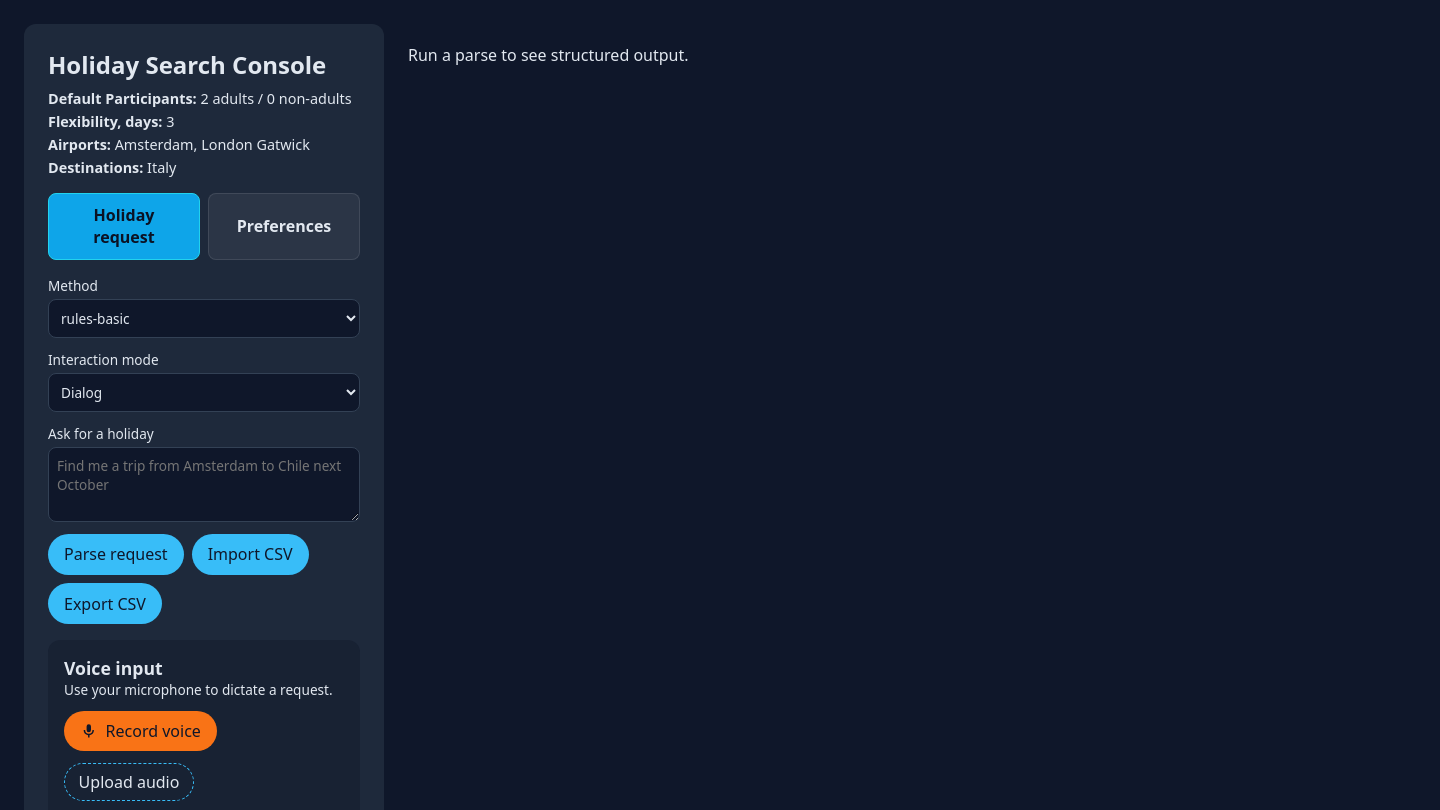
Holiday search console › shows empty-state messaging when no preferences are detected
Expected: the element with test id "fixtures-loaded" is shown, 48,89 -> 360,177
Click the button with test id "mode-toggle-preferences" at (284, 226), box 208,193 -> 360,260
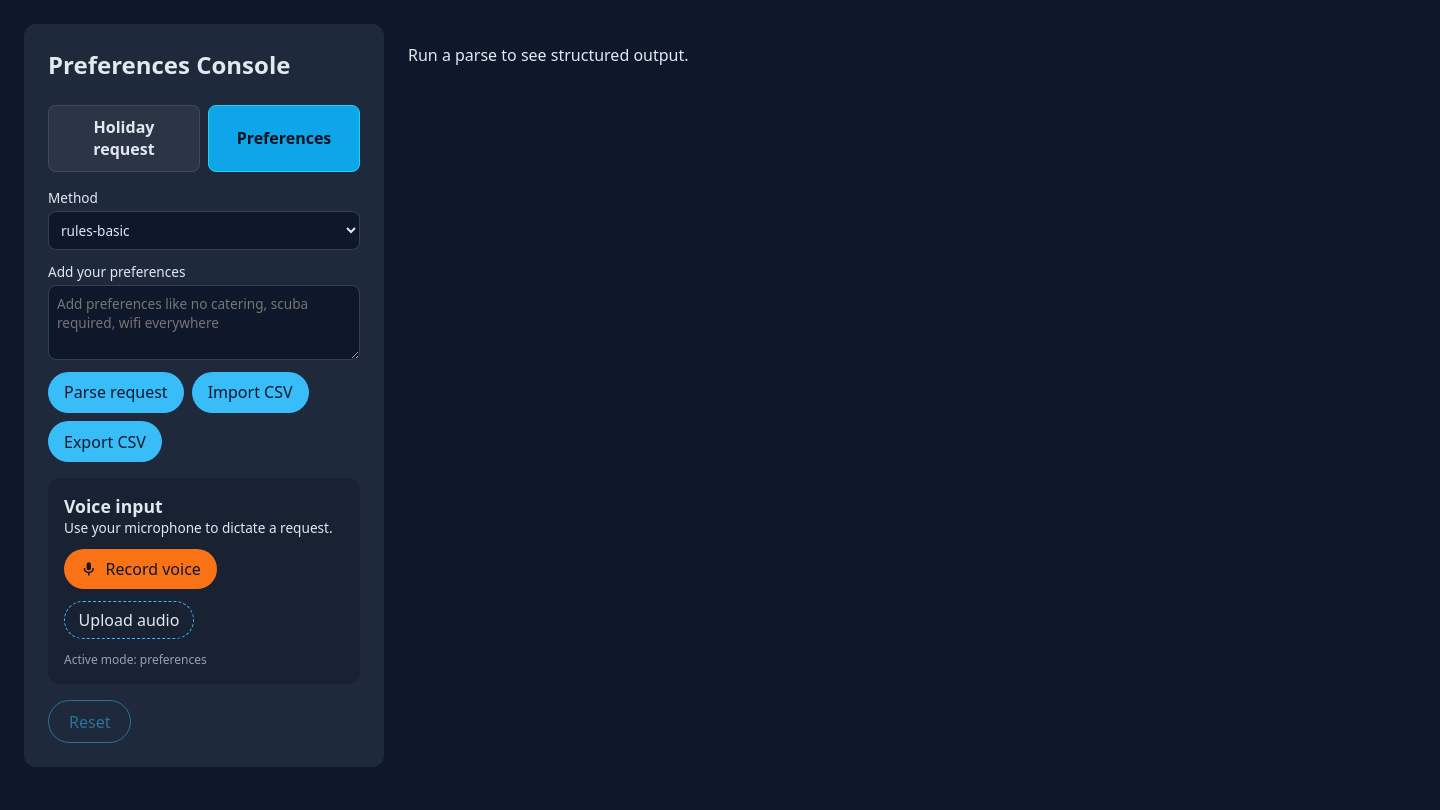
Replace the text in the text box with test id "query-input" with "tell me more" at (204, 322), box 48,285 -> 360,360
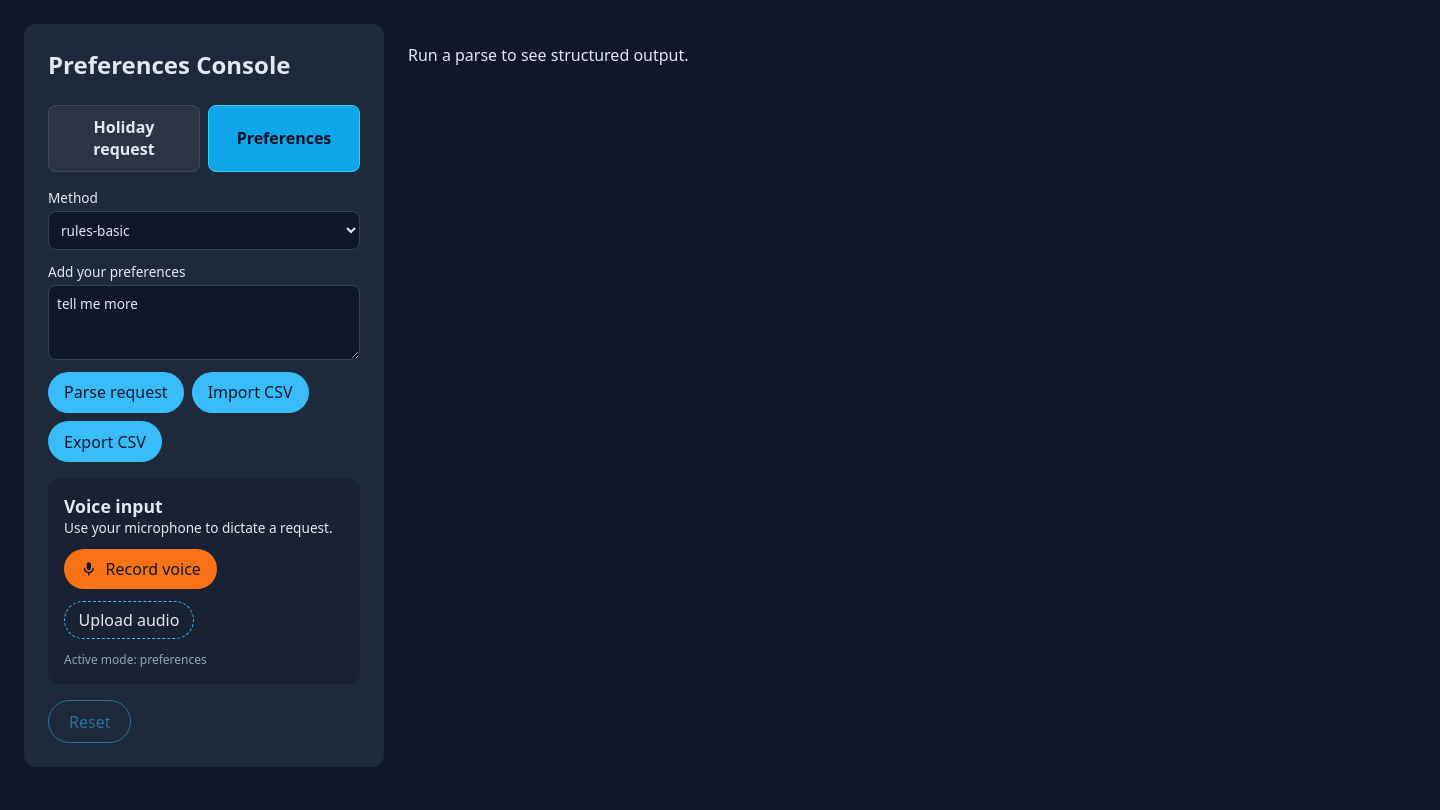
Submit the form with test id "parse-form", box 48,188 -> 360,462
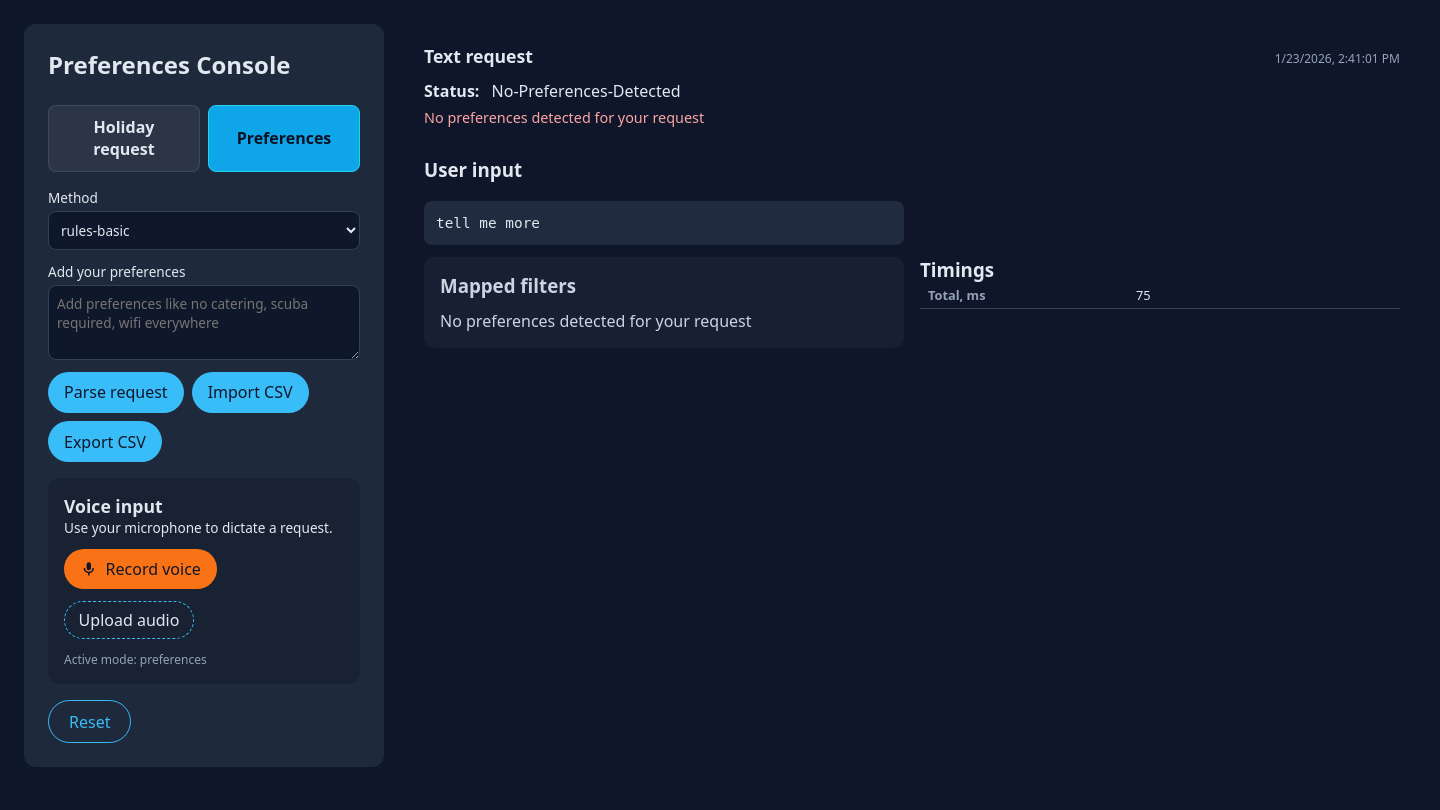
Expected: the element with test id "mapped-filters-empty" is shown, 424,257 -> 904,348
Expected: the element with test id "mapped-filters-empty" shows "No preferences detected", 440,310 -> 752,332
